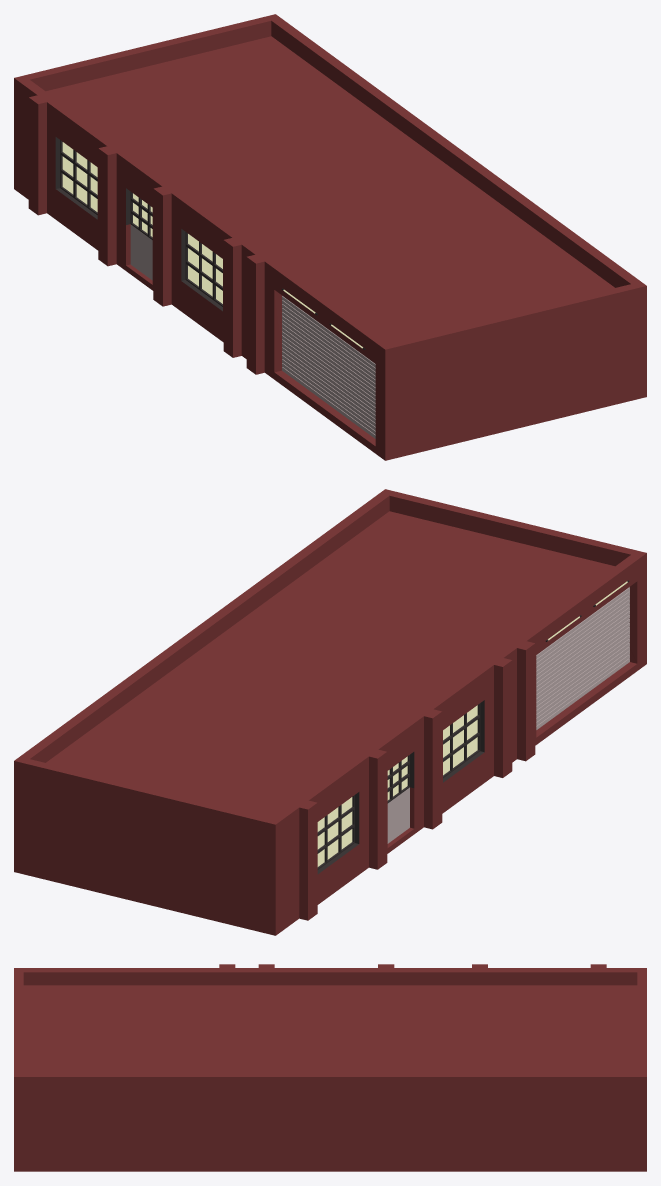
Rendered from 07 Office.FBX.
3 views of the same model, one above another, from view 1: azimuth 30°, elevation 25°; view 2: azimuth 150°, elevation 25°; view 3: azimuth 270°, elevation 25° (orthographic). The views are drawn at different scales.
Visible parts, largest first — view 1: Office; view 2: Office; view 3: Office.
Part boxes in pixels (x1,y1,x2,y2): Office: (14, 14, 646, 460); Office: (14, 489, 646, 935); Office: (14, 964, 646, 1171).
Size of the model in its own units: 3056 by 1200 by 7265.
